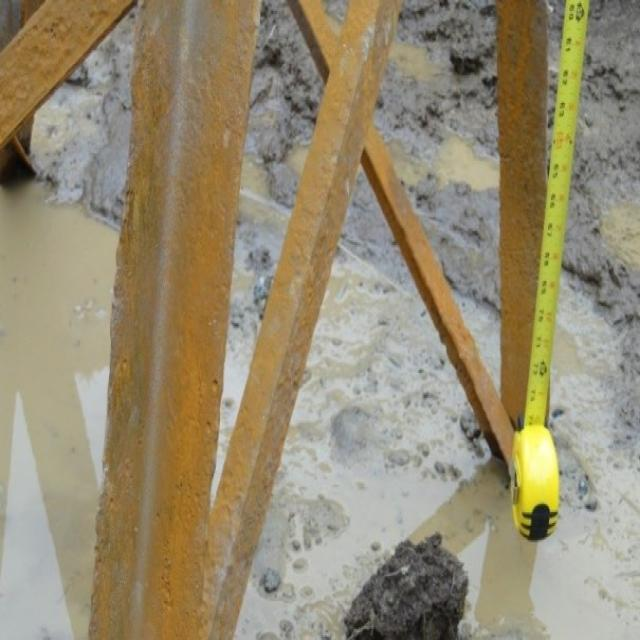damaged_tower: (111, 1, 288, 640), (293, 9, 538, 279)
